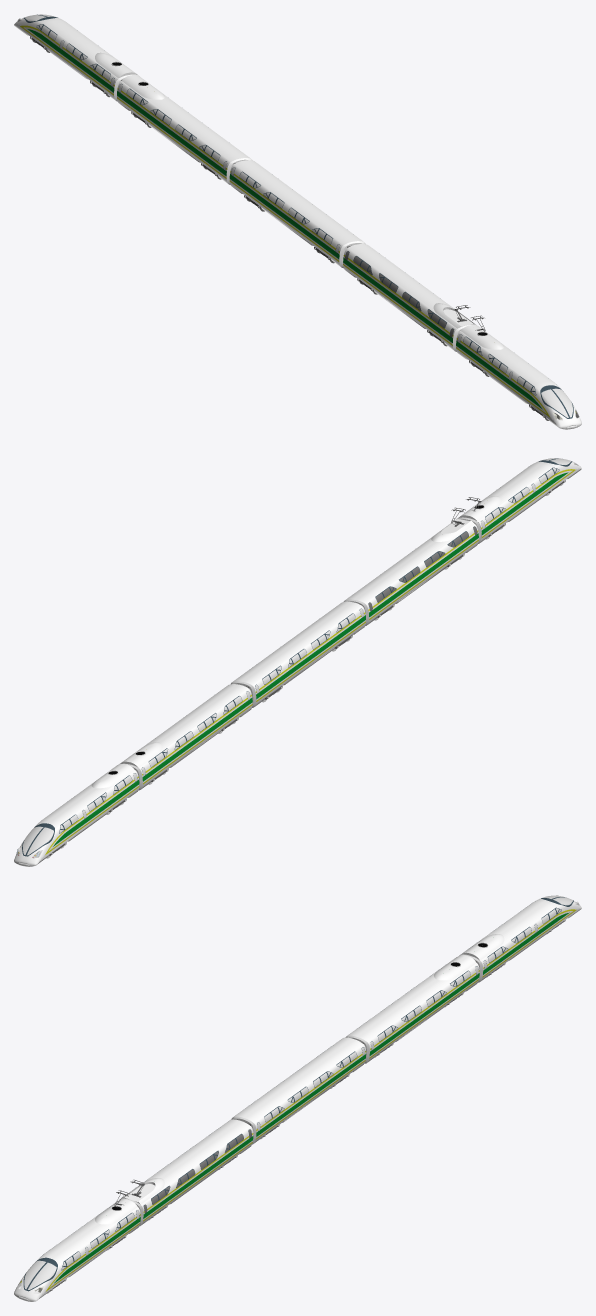
The model's file is trainsansparentsfait.fbx.
3 views of the same model, one above another, from view 1: azimuth 30°, elevation 25°; view 2: azimuth 150°, elevation 25°; view 3: azimuth 330°, elevation 25° (orthographic).
Parts seen in each view (by area): view 1: Caisse 3, Caisse 2, Caisse 1, Caisse 4, Caisse 5, Partie_Haute_Caisse4, Partie_Haute_Caisse1; view 2: Caisse 3, Caisse 2, Caisse 4, Caisse 5, Caisse 1, Partie_Haute_Caisse5; view 3: Caisse 3, Caisse 2, Caisse 1, Caisse 4, Caisse 5, Partie_Haute_Caisse4, Partie_Haute_Caisse1, Partie_Haute_Caisse5.
Boxes of the visible parts, x1,y1,x2,y2 form: Caisse 3: (229, 160, 363, 266); Caisse 2: (343, 244, 476, 350); Caisse 1: (456, 331, 581, 429); Caisse 4: (117, 81, 250, 183); Caisse 5: (14, 14, 138, 100); Partie_Haute_Caisse4: (122, 75, 164, 99); Partie_Haute_Caisse1: (461, 325, 503, 349); Caisse 3: (233, 601, 365, 706); Caisse 2: (346, 518, 478, 624); Caisse 4: (120, 684, 252, 789); Caisse 5: (14, 770, 139, 866); Caisse 1: (458, 458, 581, 542); Partie_Haute_Caisse5: (91, 764, 134, 788); Caisse 3: (234, 1037, 366, 1143); Caisse 2: (121, 1119, 253, 1225); Caisse 1: (14, 1201, 140, 1301); Caisse 4: (347, 957, 479, 1061); Caisse 5: (460, 895, 581, 980); Partie_Haute_Caisse4: (434, 955, 476, 980); Partie_Haute_Caisse1: (95, 1199, 137, 1224); Partie_Haute_Caisse5: (462, 934, 504, 960).
Size of the model in its own units: 268 by 362 by 7975.
